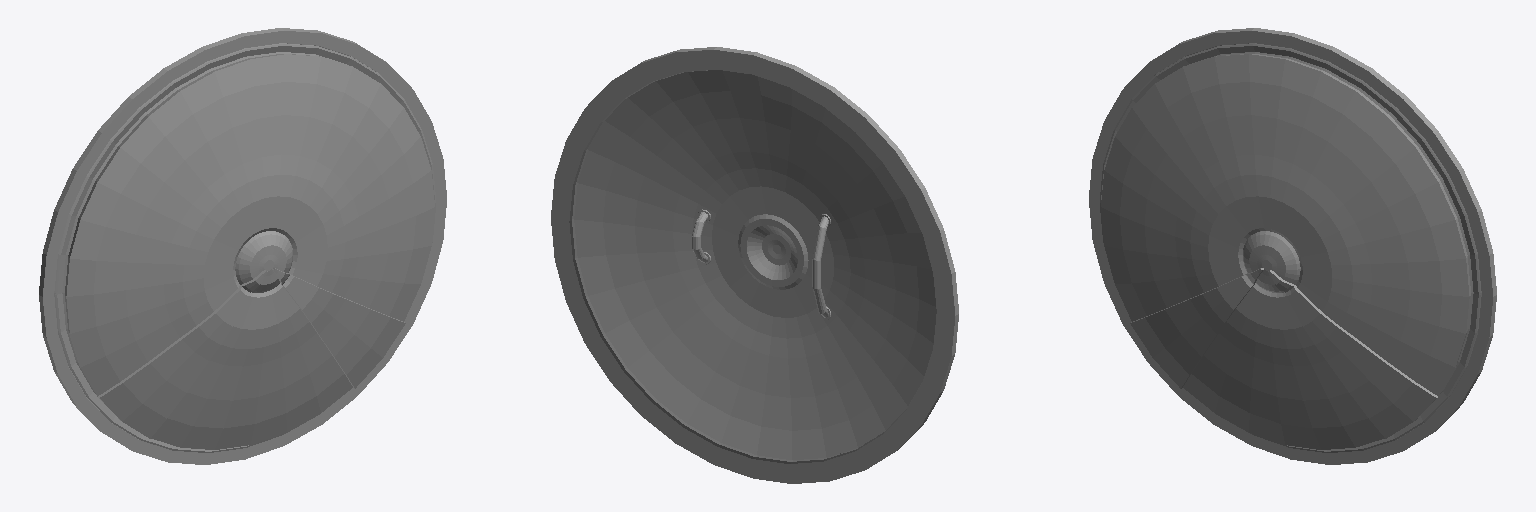
The model's file is shield.obj.
The picture shows the model from 3 angles: view 1: azimuth 30°, elevation 25°; view 2: azimuth 150°, elevation 25°; view 3: azimuth 330°, elevation 25°; orthographic projection.
Visible parts, largest first — view 1: Cube; view 2: Cube; view 3: Cube.
Boxes of the visible parts, box(x1,y1,x2,y2) form: Cube: box(39, 28, 446, 464); Cube: box(551, 47, 958, 483); Cube: box(1089, 28, 1496, 464).
Bounding box in the file's own units: 15.45 × 15.45 × 1.97.